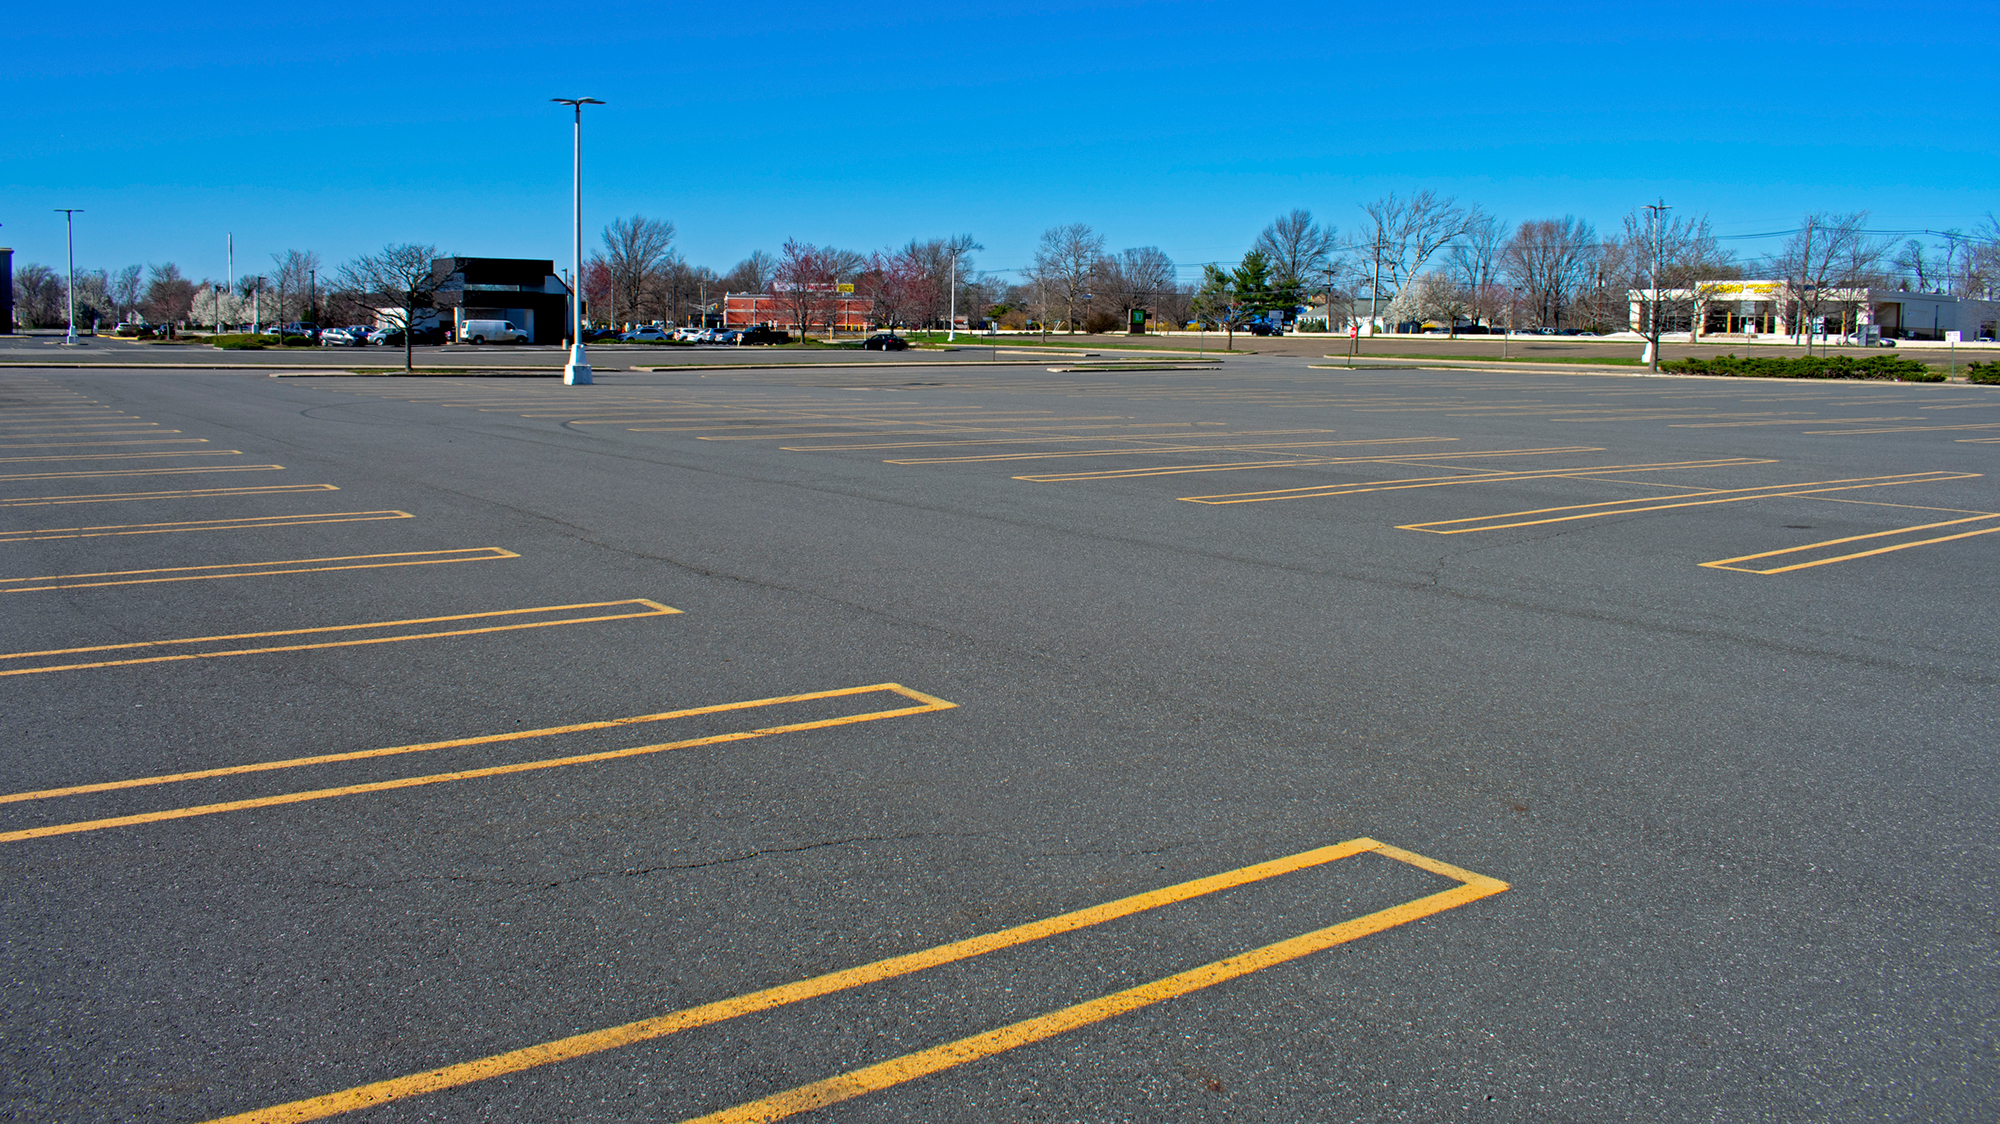dolu: (1, 649, 1492, 1124), (1, 561, 791, 798), (1, 513, 659, 657), (1442, 481, 1995, 651)
